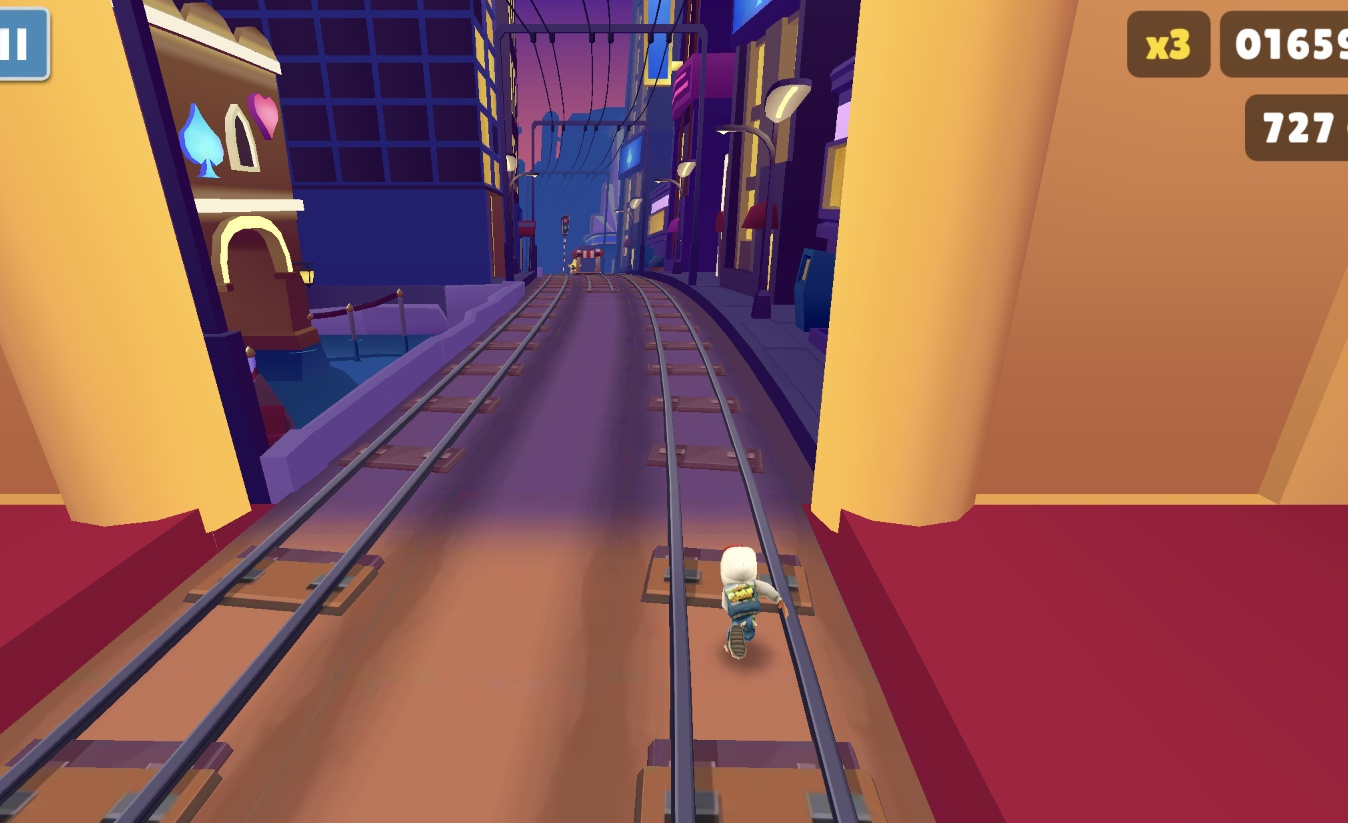ground_barrier: (573, 250, 600, 277)
